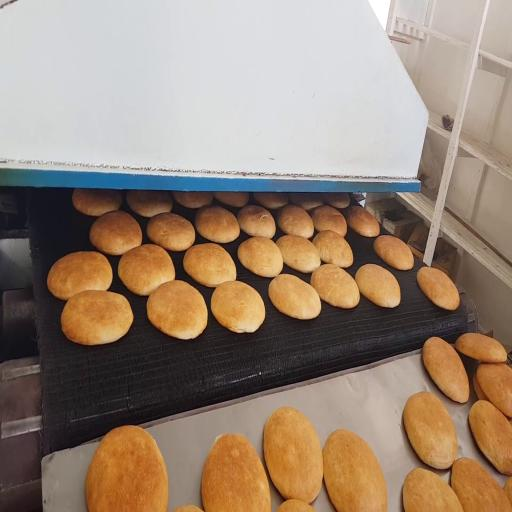bread: (86, 426, 168, 511), (264, 407, 323, 503), (202, 434, 270, 511), (324, 430, 387, 511), (403, 392, 457, 469), (61, 291, 133, 345), (147, 281, 207, 339), (451, 458, 511, 511), (47, 252, 112, 300), (469, 401, 511, 475), (423, 337, 469, 402), (118, 244, 175, 295), (211, 281, 265, 332), (403, 468, 463, 511), (183, 243, 236, 287), (90, 211, 142, 255), (269, 275, 321, 319), (311, 264, 359, 308), (355, 264, 400, 308), (476, 364, 511, 417), (147, 213, 195, 251), (417, 267, 459, 310), (238, 237, 283, 277), (276, 235, 320, 273), (195, 205, 239, 243), (456, 333, 506, 363), (313, 230, 353, 267), (72, 189, 122, 216), (374, 236, 413, 270), (237, 205, 275, 238), (277, 205, 314, 238), (127, 191, 172, 217), (311, 206, 346, 236), (347, 206, 379, 237), (172, 192, 213, 209), (288, 192, 323, 211), (253, 192, 288, 209), (214, 192, 249, 207), (322, 192, 350, 208), (277, 500, 315, 511), (473, 373, 488, 400), (504, 478, 511, 503), (174, 505, 202, 511)
